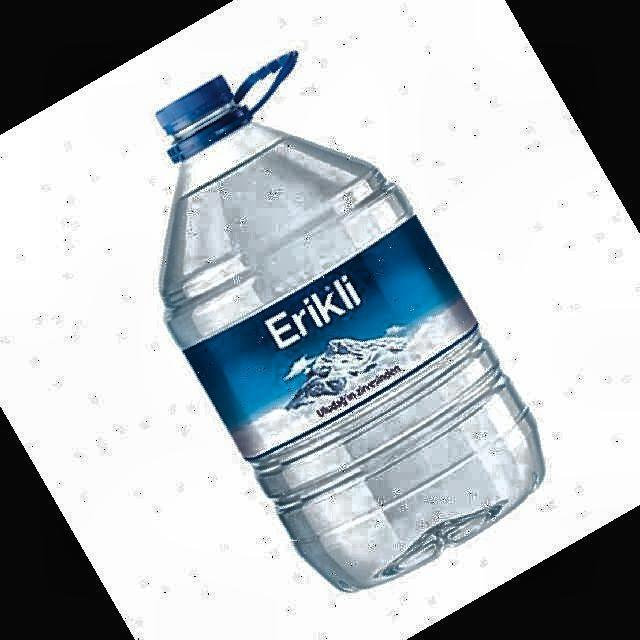plastic: (158, 52, 544, 589)
